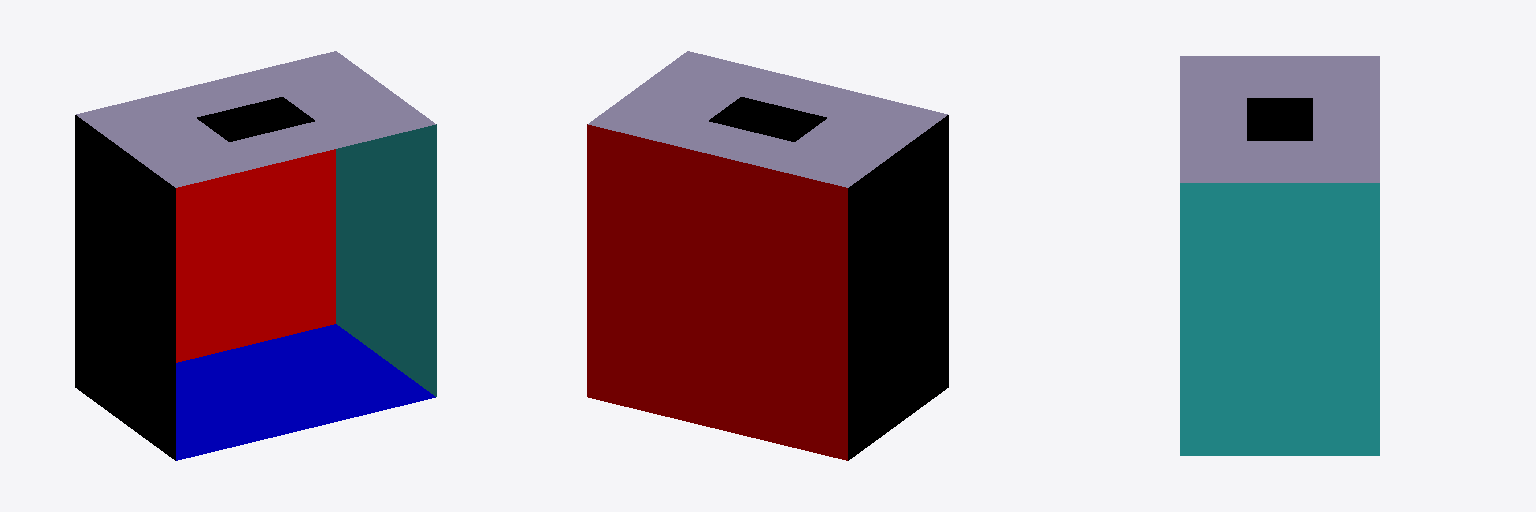
The model's file is testbox2.obj.
The picture shows the model from 3 angles: view 1: azimuth 30°, elevation 25°; view 2: azimuth 150°, elevation 25°; view 3: azimuth 270°, elevation 25°; orthographic projection.
Bounding box in the file's own units: 3 × 3 × 2.